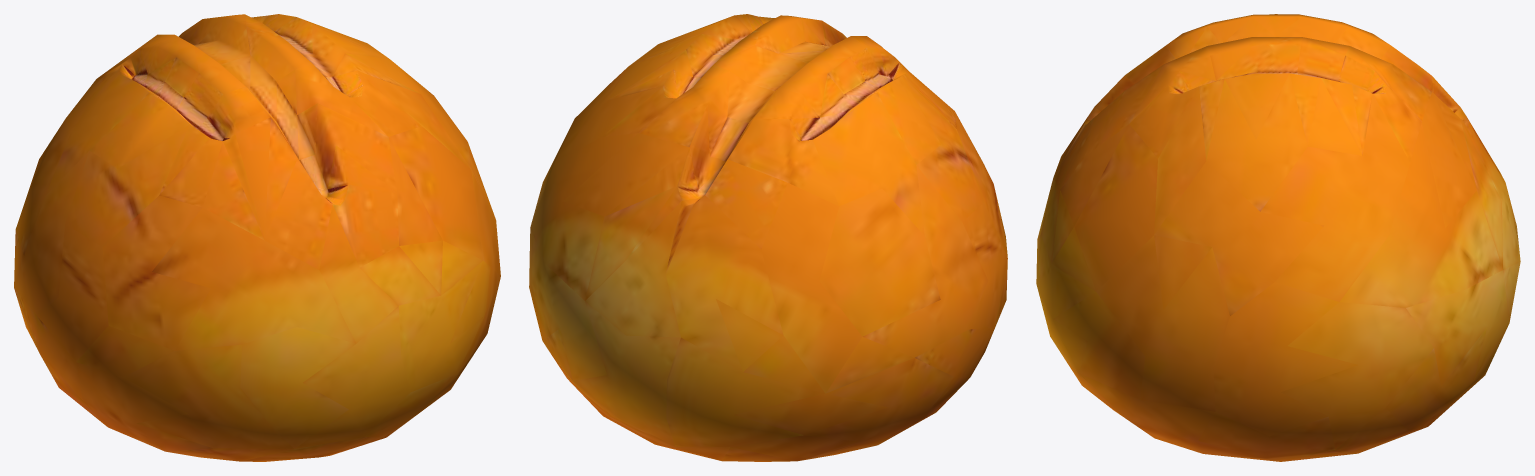
The model's file is bread.glb.
3 views of the same model, side by side, from view 1: azimuth 30°, elevation 25°; view 2: azimuth 150°, elevation 25°; view 3: azimuth 270°, elevation 25° (orthographic).
Visible parts, largest first — view 1: bread; view 2: bread; view 3: bread.
Boxes of the visible parts, <box> form: bread: <box>14,14,500,461</box>; bread: <box>529,14,1007,461</box>; bread: <box>1036,14,1520,461</box>.
Bounding box in the file's own units: 0.85 × 0.7244 × 0.85.
Materials: 1 (1 with a texture image).
